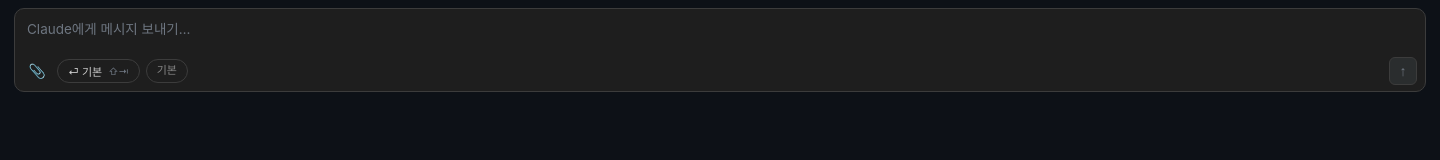
Test: ChatComposer › 백슬래시+Enter는 줄바꿈을 삽입하고 제출하지 않음 (CLI parity)
The image size is (1440, 160).
Type "first\\" into the text box. click: (720, 31)
box: [15,9,1425,53]
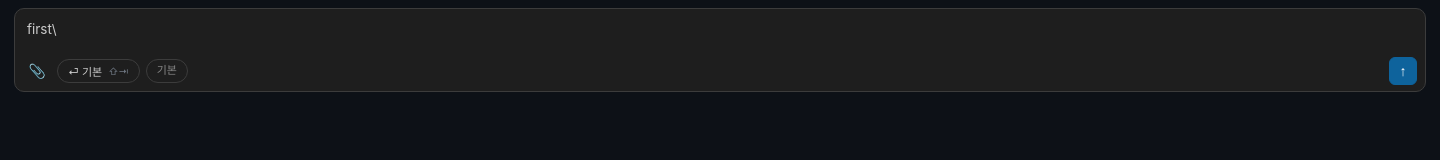
Press Enter in the text box, box [15,9,1425,53]
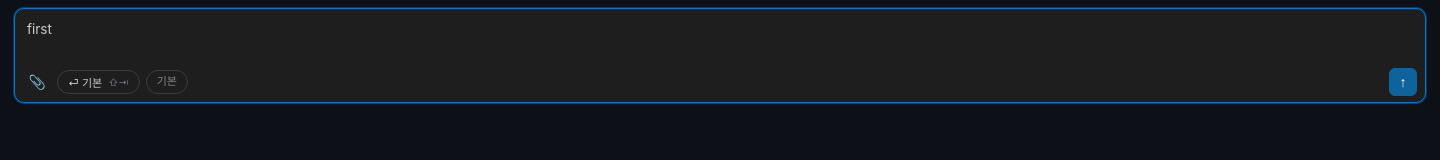
Expected: the text box holds "first ", [15,9,1425,64]
